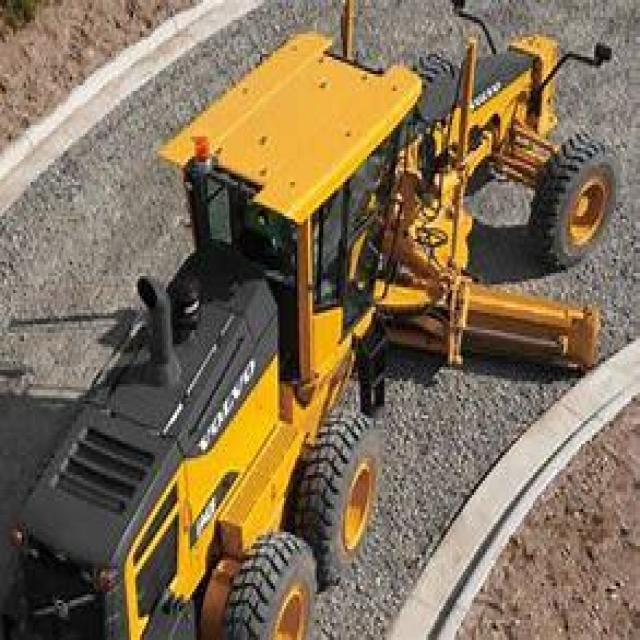Grader: (9, 6, 627, 637)
